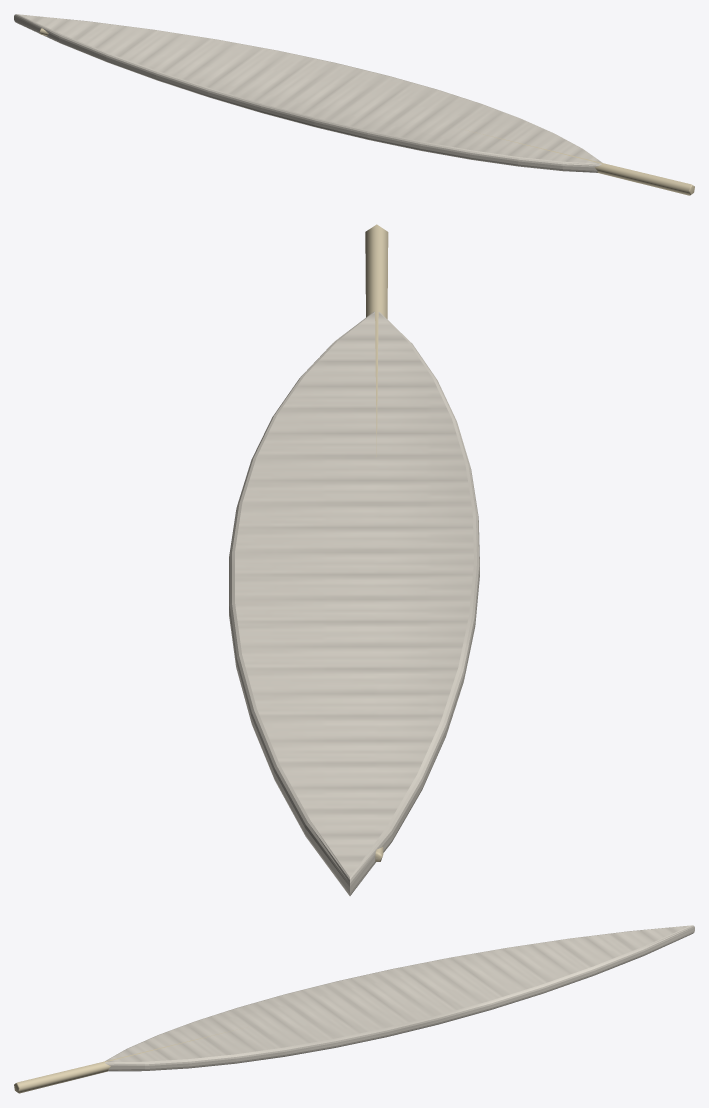
File: feather.glb
3 views of the same model, one above another, from view 1: azimuth 30°, elevation 25°; view 2: azimuth 150°, elevation 25°; view 3: azimuth 270°, elevation 25° (orthographic). The views are drawn at different scales.
Visible parts, largest first — view 1: feather; view 2: feather; view 3: feather.
Part boxes in pixels (left/top/right/bottom): feather: left=14, top=14, right=694, bottom=195; feather: left=229, top=224, right=479, bottom=895; feather: left=14, top=925, right=694, bottom=1093.
Size of the model in its own units: 0.1135 by 0.0033 by 0.203.
Materials: 2 (1 with a texture image).
